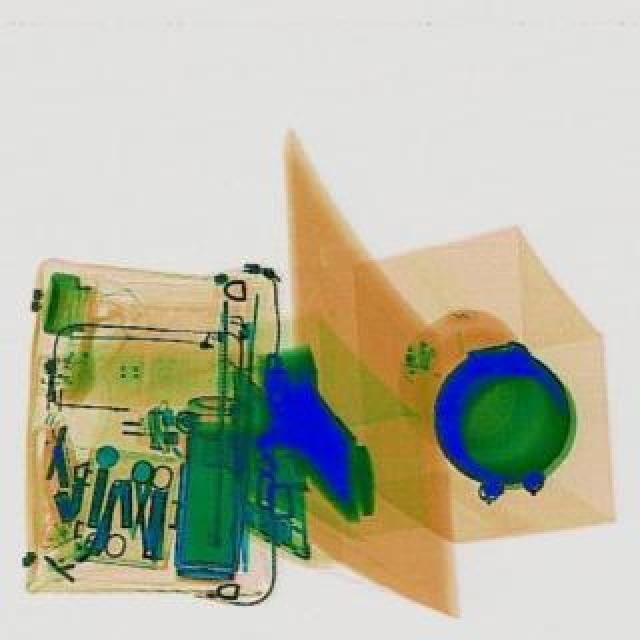pliers: (110, 456, 176, 540), (82, 482, 130, 558)
